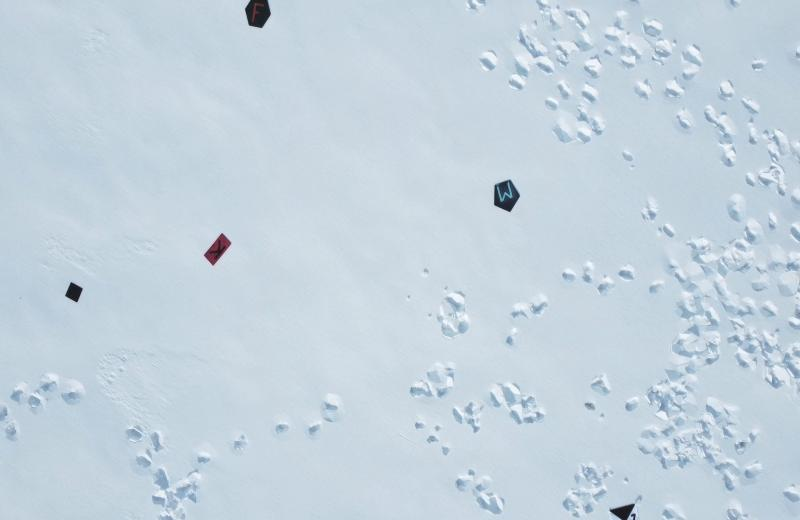Hexagon: (243, 0, 274, 31)
Pentagon: (489, 178, 523, 216)
Rectangle: (203, 231, 233, 266)
Square: (64, 280, 84, 306)
